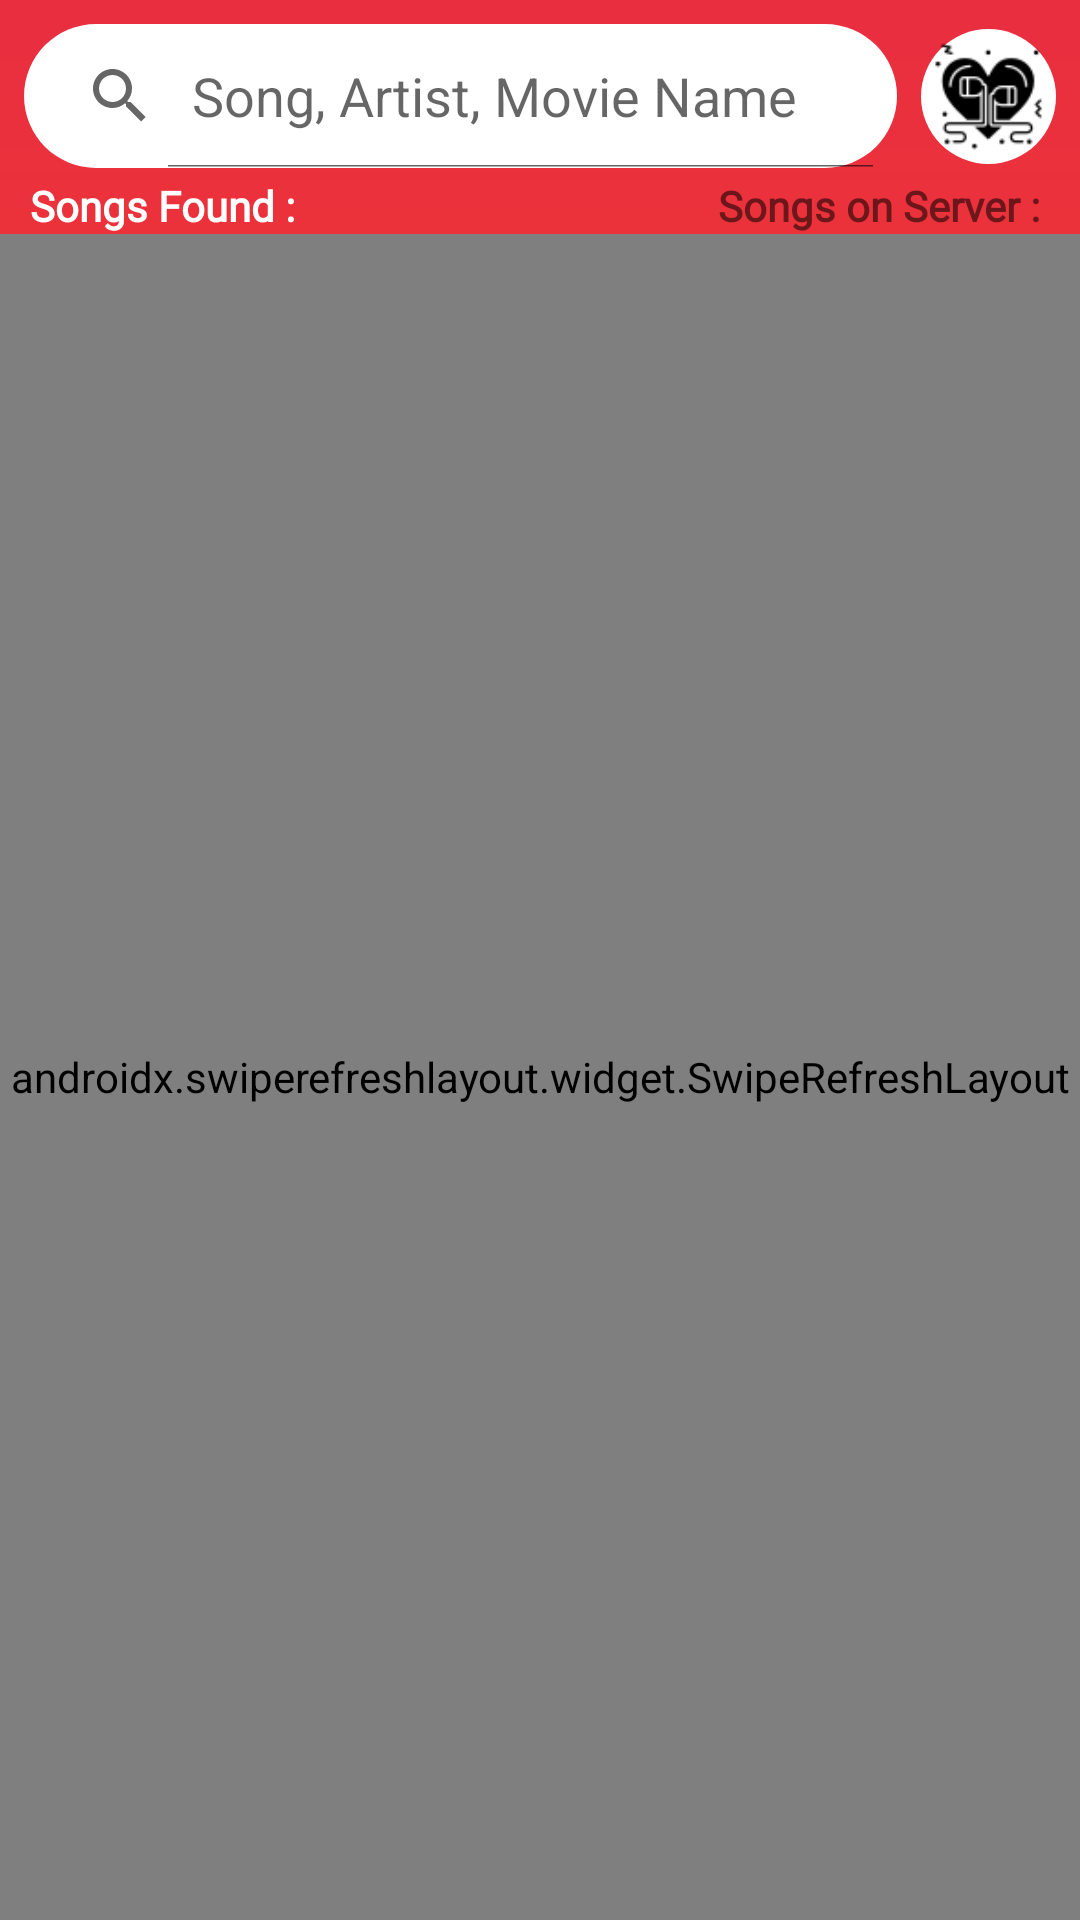

Icons on this 1080 x 1920 Android screen, each with its box as (x1, y1, x2, y2):
fav: (921, 29, 1056, 164)
